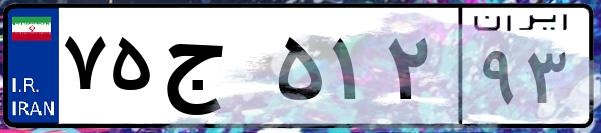1: (330, 28, 385, 110)
2: (385, 28, 445, 110)
3: (525, 38, 570, 115)
5: (270, 28, 330, 110), (110, 28, 158, 98)
7: (57, 26, 110, 100)
9: (475, 38, 525, 113)
ج: (158, 20, 270, 120)
